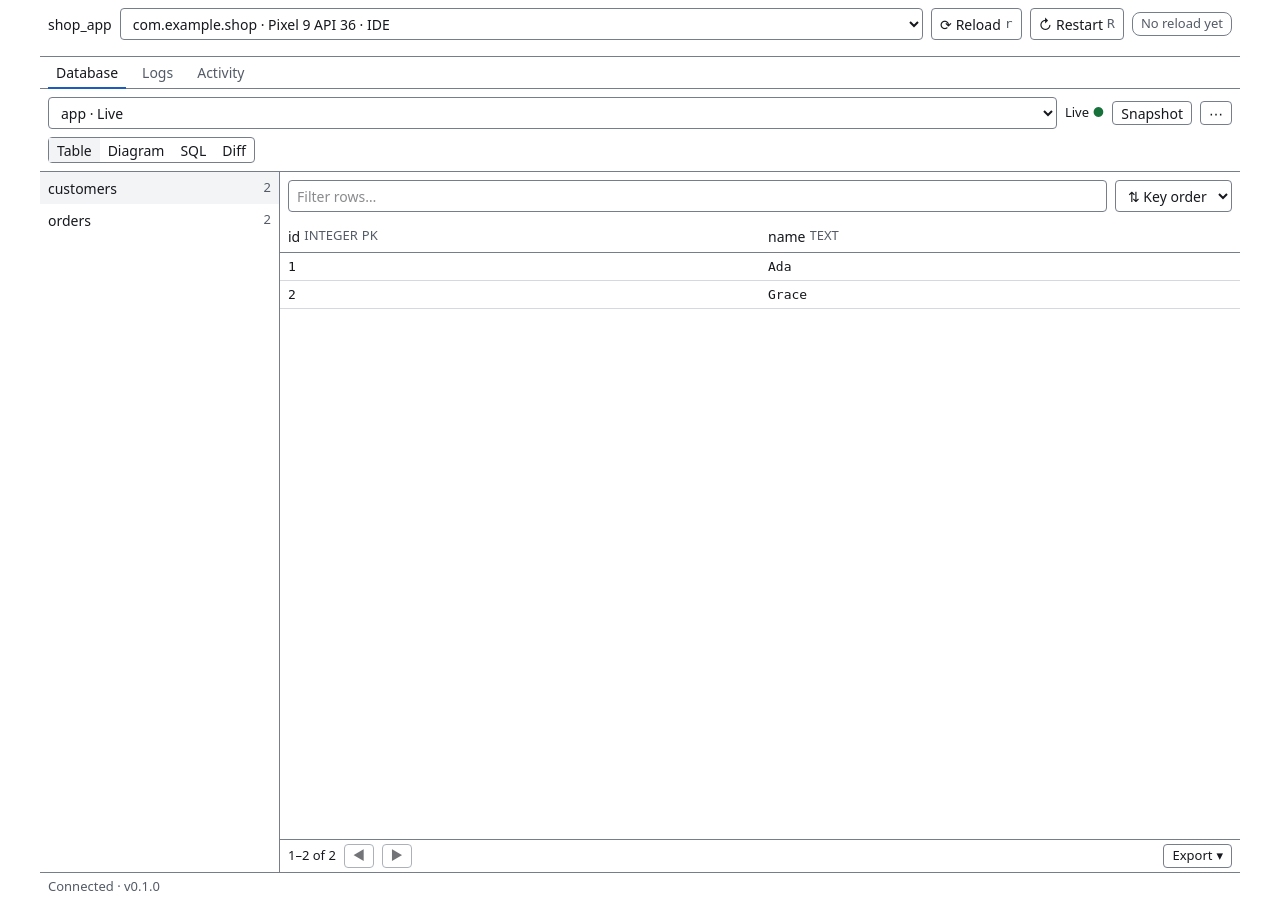
Test: SQL editor (states matrix) › Long content: "Showing the first 1,000 rows" when the result is capped
Click the button named "More database options" at [1216, 113], box top-left (1200, 101), bottom-right (1232, 125)
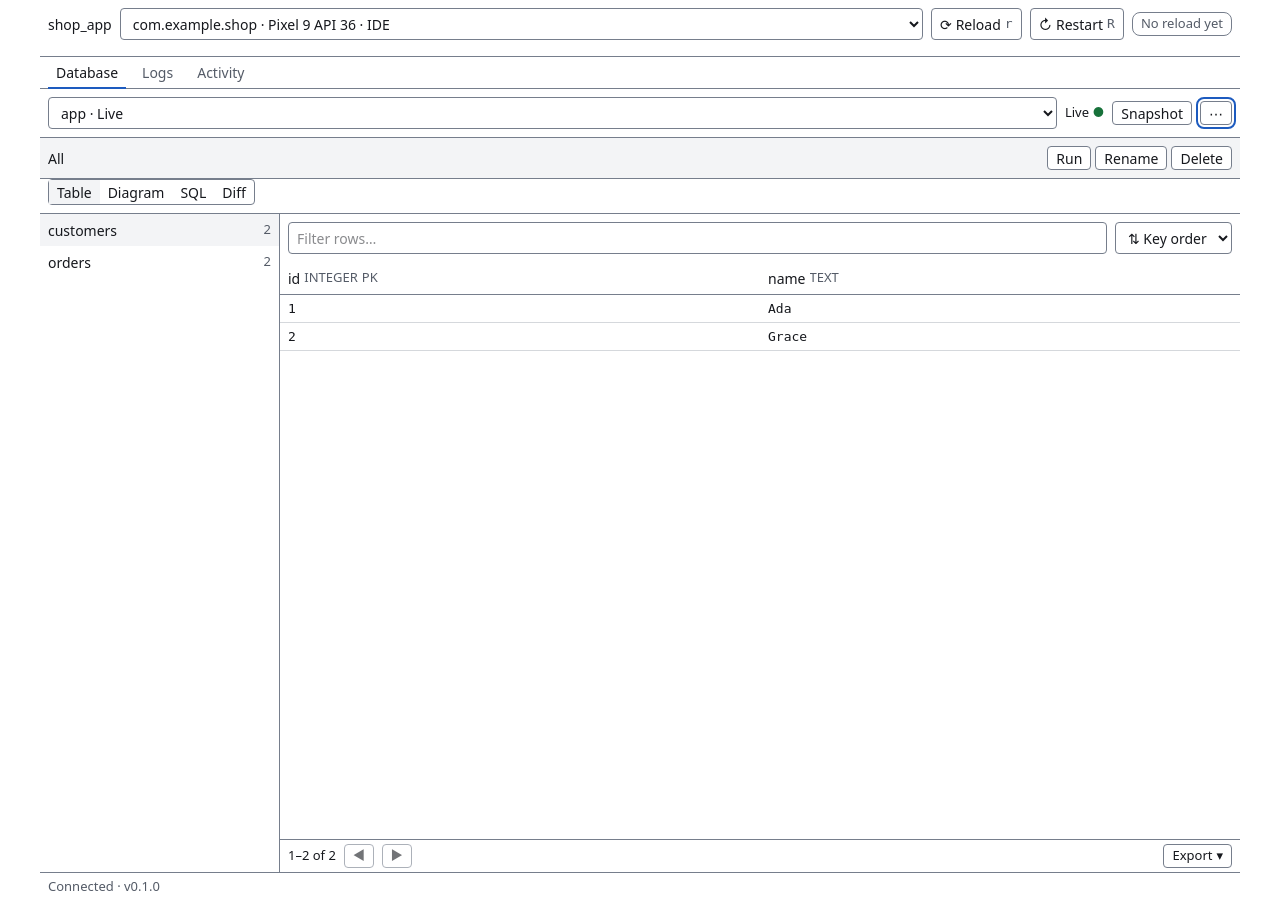
Click the button with aria-label "Run saved query: All" at [1069, 158], box top-left (1047, 146), bottom-right (1091, 170)
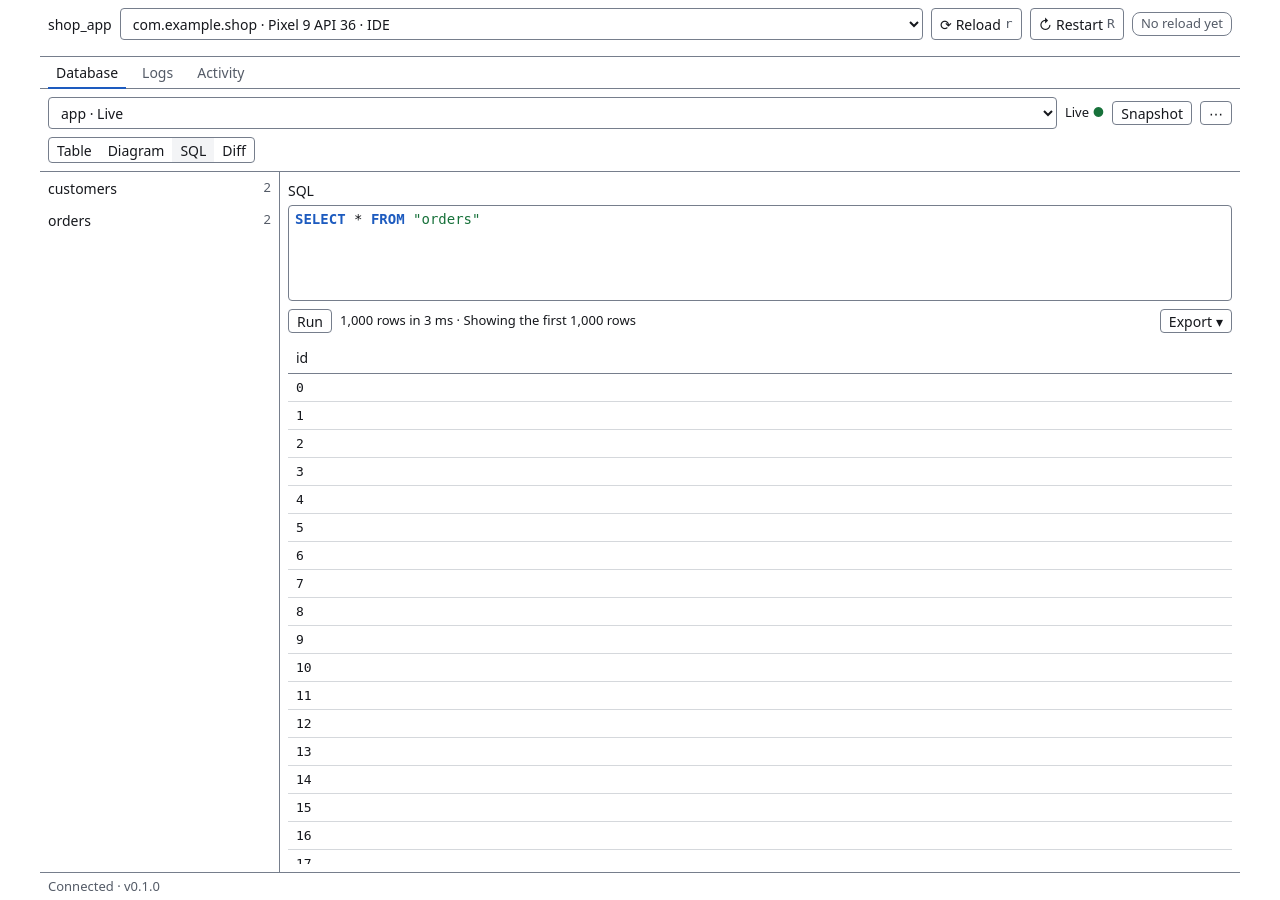
Result: the text "1,000 rows in 3 ms · Showing the first 1,000 rows" is shown at top-left (340, 311), bottom-right (636, 331)
